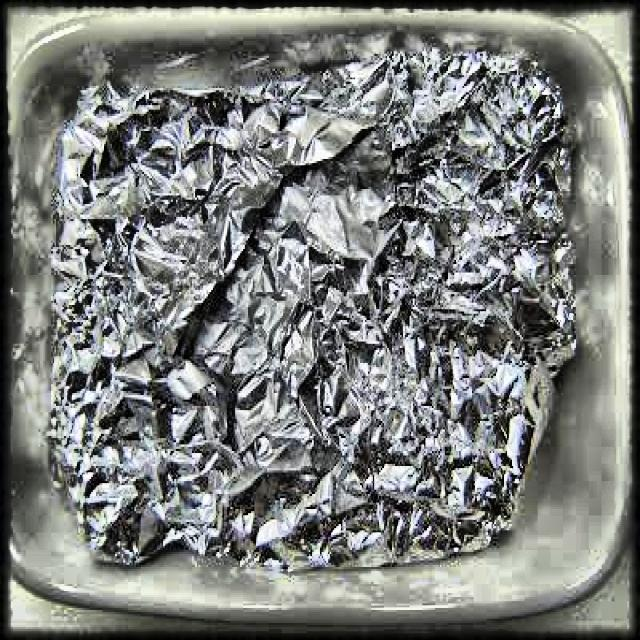Foil: (40, 31, 588, 578)
